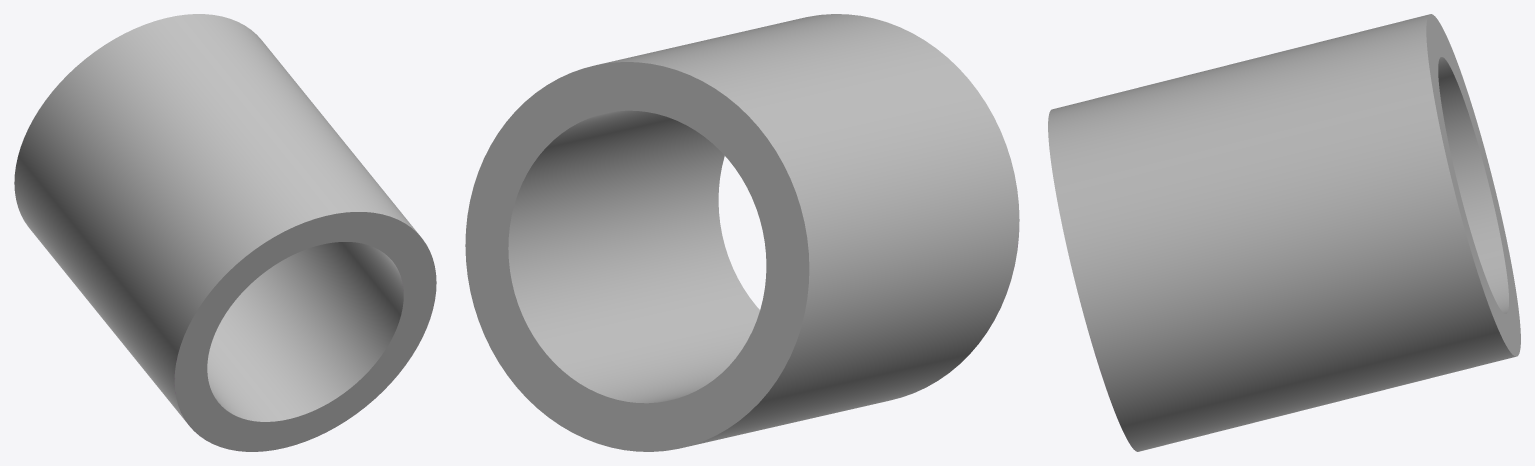
3 views of the same model, side by side, from view 1: azimuth 30°, elevation 25°; view 2: azimuth 150°, elevation 25°; view 3: azimuth 270°, elevation 25° (orthographic). The views are drawn at different scales.
Parts seen in each view (by area): view 1: mesh_id27; view 2: mesh_id27; view 3: mesh_id27.
Boxes of the visible parts, box(x1,y1,x2,y2) form: mesh_id27: box(14, 14, 436, 451); mesh_id27: box(465, 14, 1019, 451); mesh_id27: box(1048, 14, 1520, 451).
Bounding box in the file's own units: 0.1218 × 0.1536 × 0.163.
1 material, 1 textured.
